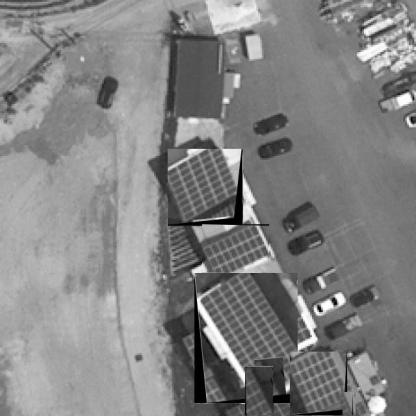solar-pv-panel: (197, 273, 298, 399), (168, 149, 239, 224), (290, 352, 346, 414), (203, 226, 269, 278), (245, 366, 273, 416), (343, 392, 353, 416)
